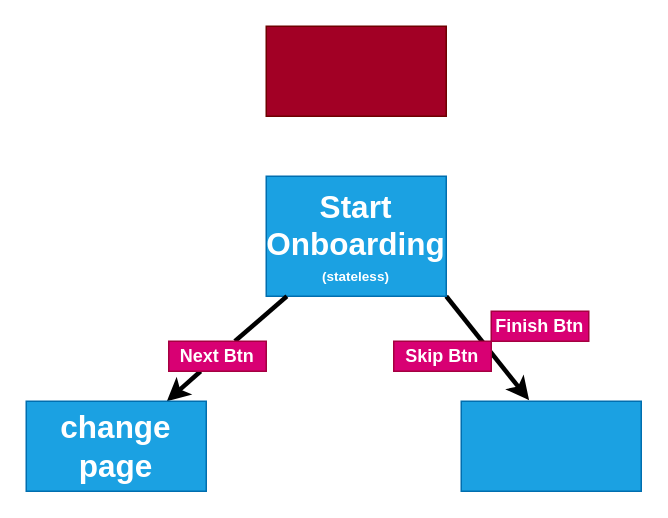
Some shapes in this 668 by 518 pixel diagram are drawn without their labels. The box of each missing label's shape, as (x1, y1, x2, y2) in pixels:
Activity: (265, 25, 446, 116)
go to home page: (460, 400, 641, 491)
